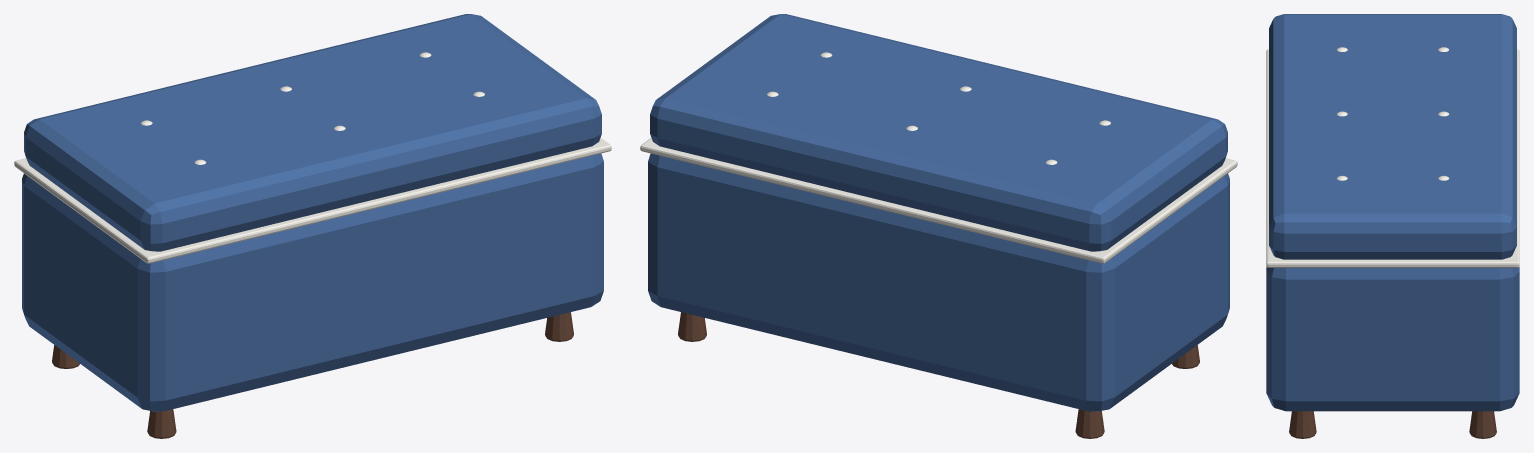
The model's file is hh_cat_ottoman.glb.
3 views of the same model, side by side, from view 1: azimuth 30°, elevation 25°; view 2: azimuth 150°, elevation 25°; view 3: azimuth 270°, elevation 25° (orthographic). The views are drawn at different scales.
Visible parts, largest first — view 1: body, cushion, piping, foot, foot.002; view 2: body, cushion, piping, foot.001, foot.003; view 3: cushion, body, piping, foot.002, foot.003.
Part boxes in pixels (<box>): body: <box>22,153,603,411</box>; cushion: <box>24,14,601,251</box>; piping: <box>14,138,611,263</box>; foot: <box>147,409,176,438</box>; foot.002: <box>545,312,573,341</box>; body: <box>648,153,1229,411</box>; cushion: <box>650,14,1227,251</box>; piping: <box>640,138,1237,263</box>; foot.001: <box>1075,409,1104,438</box>; foot.003: <box>678,312,706,341</box>; cushion: <box>1269,14,1516,259</box>; body: <box>1266,267,1519,411</box>; piping: <box>1266,49,1519,267</box>; foot.002: <box>1289,411,1316,438</box>; foot.003: <box>1469,411,1496,438</box>.
Size of the model in its own units: 0.9 by 0.45 by 0.45.
